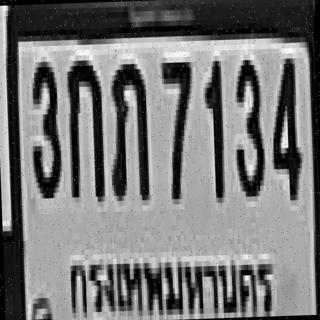A01: (65, 54, 103, 198)
A32: (106, 58, 148, 196)
N01: (202, 56, 223, 198)
N03: (231, 54, 264, 192), (28, 56, 60, 194)
N04: (268, 53, 299, 196)
N07: (159, 57, 194, 199)
P04: (60, 232, 276, 320)
